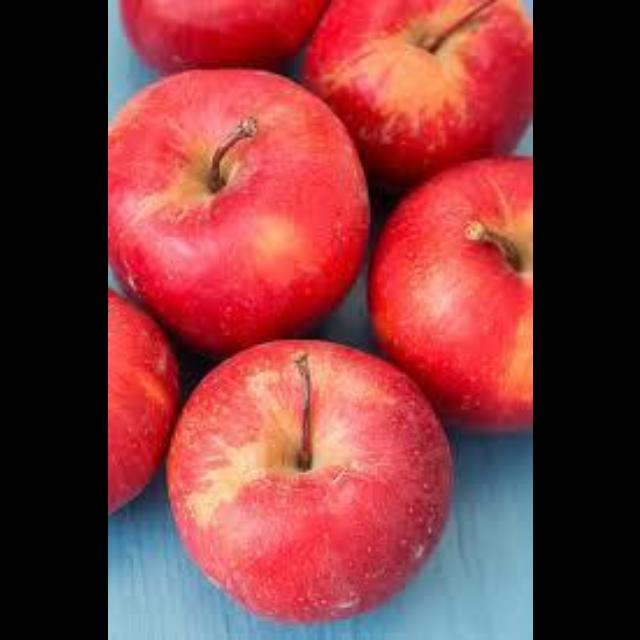apple: (168, 340, 449, 619), (107, 70, 368, 356), (368, 158, 531, 433), (305, 0, 531, 186), (107, 289, 177, 512), (119, 0, 326, 72)
